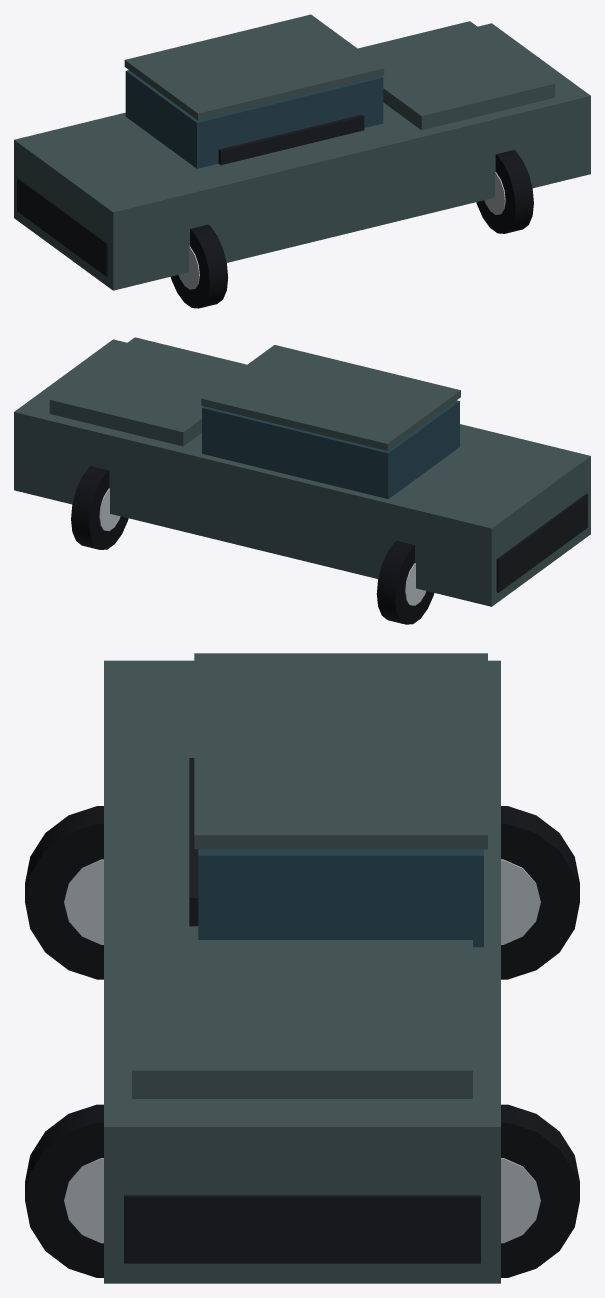
File: chevy_silverado_1500.glb
3 renders of one model, top to bottom at view 1: azimuth 30°, elevation 25°; view 2: azimuth 150°, elevation 25°; view 3: azimuth 270°, elevation 25°, orthographic. The views are drawn at different scales.
Parts seen in each view (by area): view 1: body, roof, hood, cabin, rear_bumper, front_right_wheel, rear_right_wheel, interior; view 2: body, roof, cabin, hood, rear_bumper, front_left_wheel, rear_left_wheel; view 3: body, roof, hood, cabin, front_bumper, rear_left_wheel, rear_right_wheel, front_left_wheel, front_right_wheel, interior.
Boxes of the visible parts, x1,y1,x2,y2 form: body: [14, 23, 590, 290]; roof: [124, 14, 384, 120]; hood: [358, 21, 555, 130]; cabin: [125, 70, 383, 168]; rear_bumper: [17, 177, 108, 276]; front_right_wheel: [476, 150, 533, 233]; rear_right_wheel: [170, 224, 228, 308]; interior: [218, 114, 364, 165]; body: [14, 339, 590, 606]; roof: [201, 345, 460, 450]; cabin: [202, 400, 459, 499]; hood: [49, 337, 246, 446]; rear_bumper: [496, 494, 587, 592]; front_left_wheel: [71, 466, 128, 549]; rear_left_wheel: [376, 540, 434, 624]; body: [104, 660, 500, 1283]; roof: [194, 653, 487, 849]; hood: [132, 940, 472, 1098]; cabin: [198, 849, 483, 947]; front_bumper: [124, 1195, 480, 1263]; rear_left_wheel: [501, 806, 579, 979]; rear_right_wheel: [25, 806, 103, 979]; front_left_wheel: [501, 1104, 579, 1277]; front_right_wheel: [25, 1104, 103, 1277]; interior: [189, 758, 198, 926].
Size of the model in its own units: 5.75 by 1.93 by 2.87.
